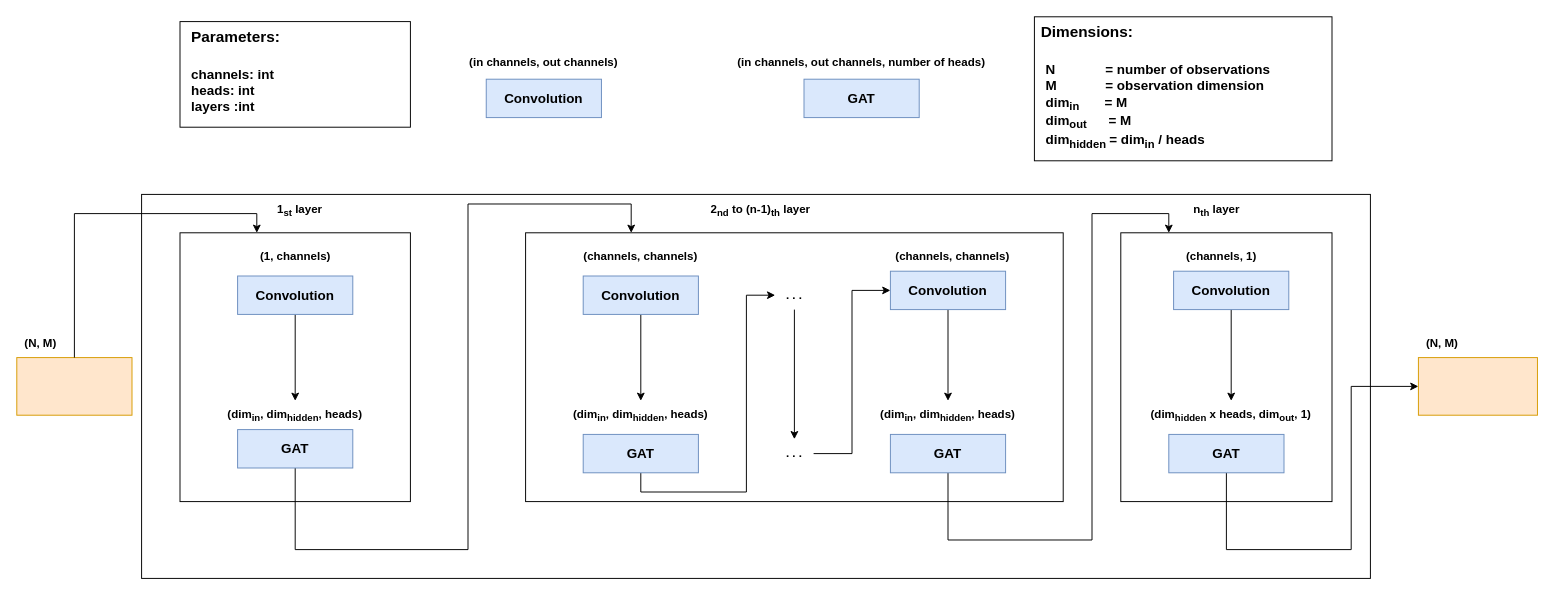
Image size: 1554x595. Some labels were removed from this diagram. The shapes that lost their labels are listed below. From the top down, each one's centre as x and y in pixels, then its label:
At point 74,386: "Noisy observation".
At point 1477,386: "Denoised observation".
